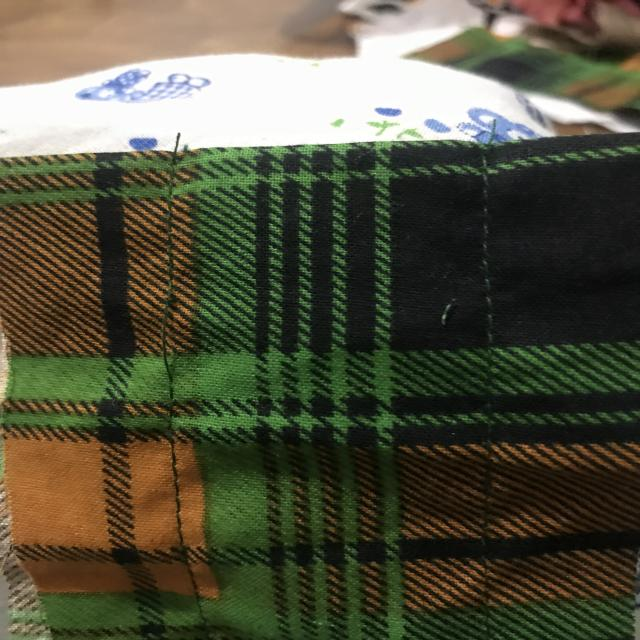good: (159, 452, 197, 530)
skip: (138, 288, 190, 398)
